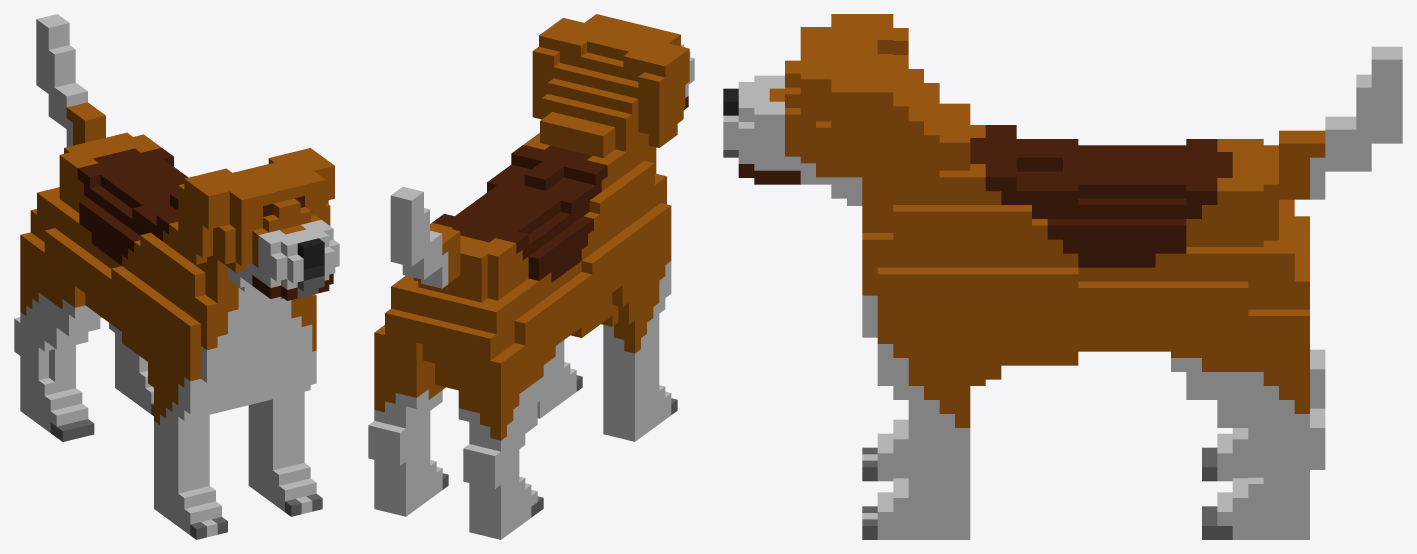
The model's file is beagle.fbx.
3 renders of one model, left to right at view 1: azimuth 30°, elevation 25°; view 2: azimuth 150°, elevation 25°; view 3: azimuth 270°, elevation 25°, orthographic. The views are drawn at different scales.
Parts seen in each view (by area): view 1: beagle; view 2: beagle; view 3: beagle.
Boxes of the visible parts, x1=… form: beagle: x1=14, y1=14, x2=339, y2=539; beagle: x1=368, y1=14, x2=694, y2=539; beagle: x1=723, y1=14, x2=1402, y2=539.
Size of the model in its own units: 12 by 32 by 44.
